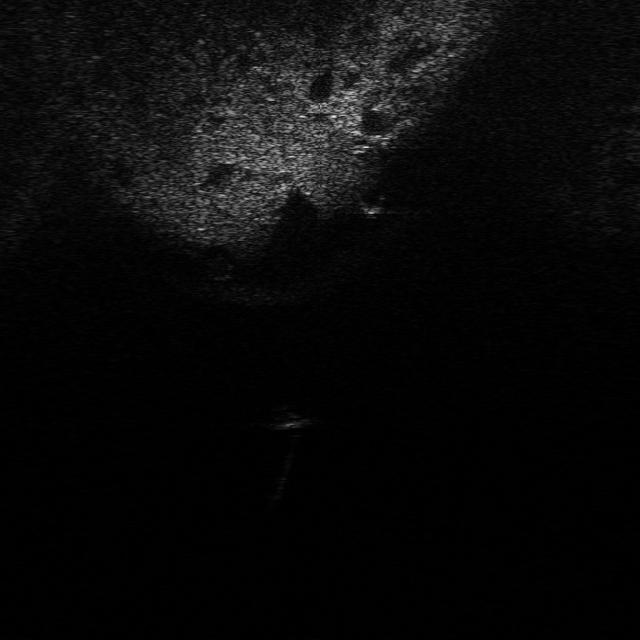ball: (349, 174, 388, 216)
cube: (262, 402, 319, 433)
